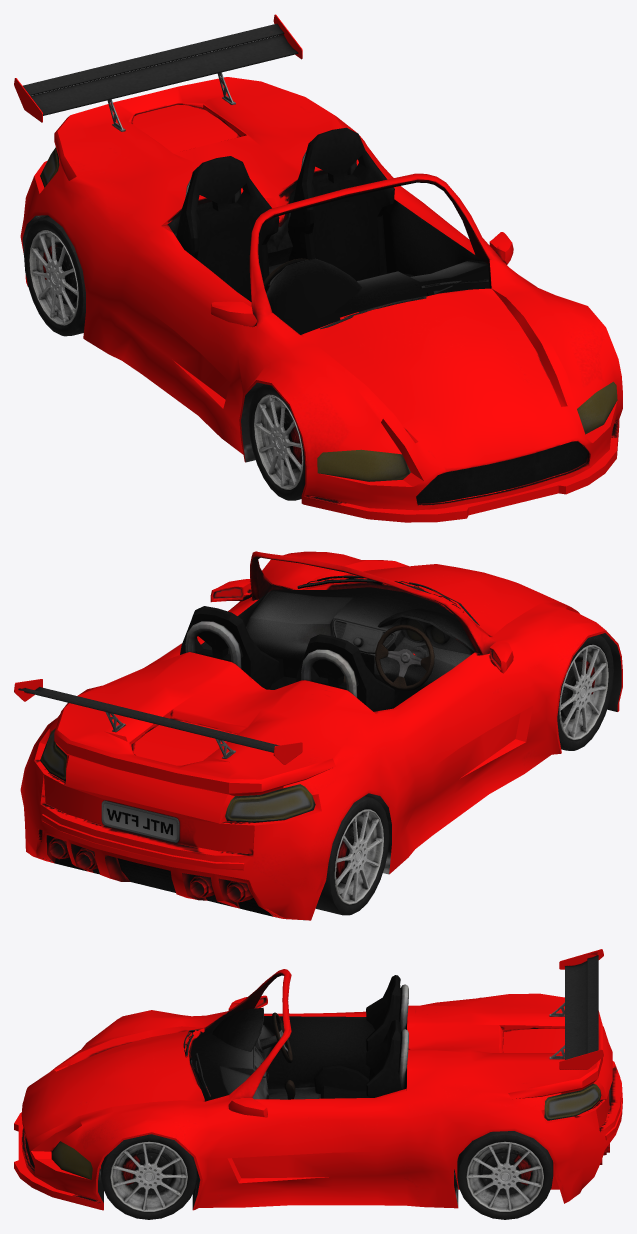
File: racing-car.obj
3 renders of one model, top to bottom at view 1: azimuth 30°, elevation 25°; view 2: azimuth 150°, elevation 25°; view 3: azimuth 270°, elevation 25°, orthographic. The views are drawn at different scales.
Visible parts, largest first — view 1: Hull; view 2: Hull; view 3: Hull.
Part boxes in pixels (<box>): Hull: <box>14,14,622,522</box>; Hull: <box>14,551,622,920</box>; Hull: <box>14,949,622,1219</box>.
Size of the model in its own units: 1.88 by 1.18 by 3.96.
